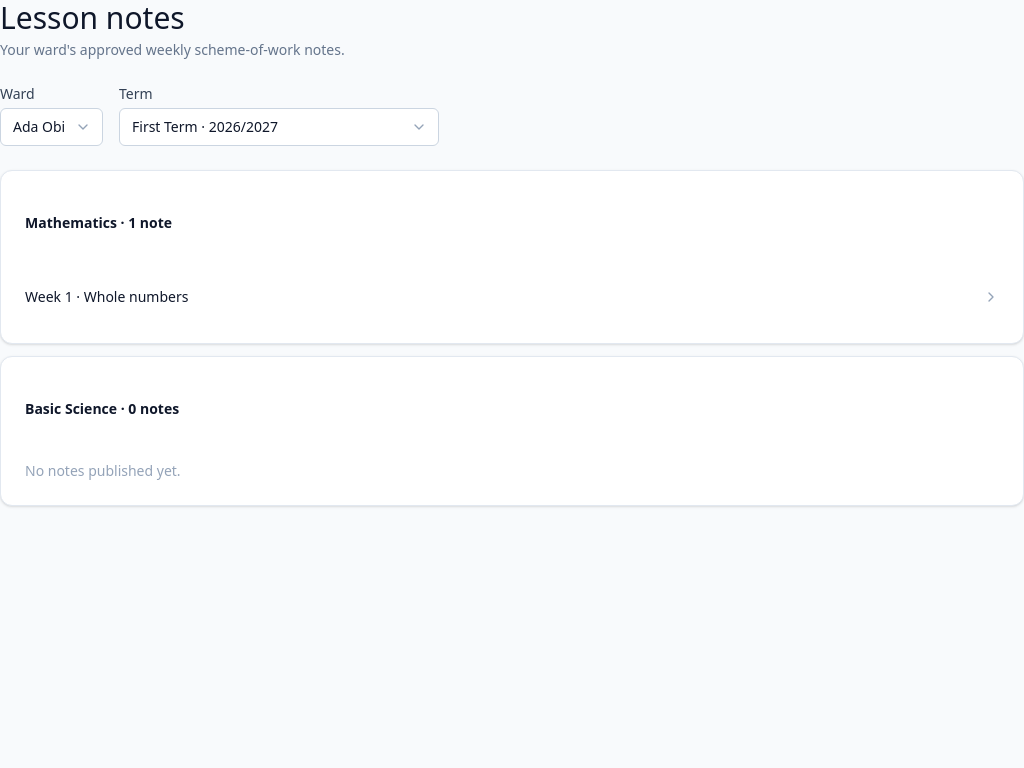
Scenario: WardLessonNotesPage › renders a document-mode note's body through RichContent, with images silently dropped (Phase 16G)
Expected: the text "Week 1 · Whole numbers" is shown, [25,287,188,307]
Click the button "Week 1 · Whole numbers" at (45, 296), box [25,275,999,319]
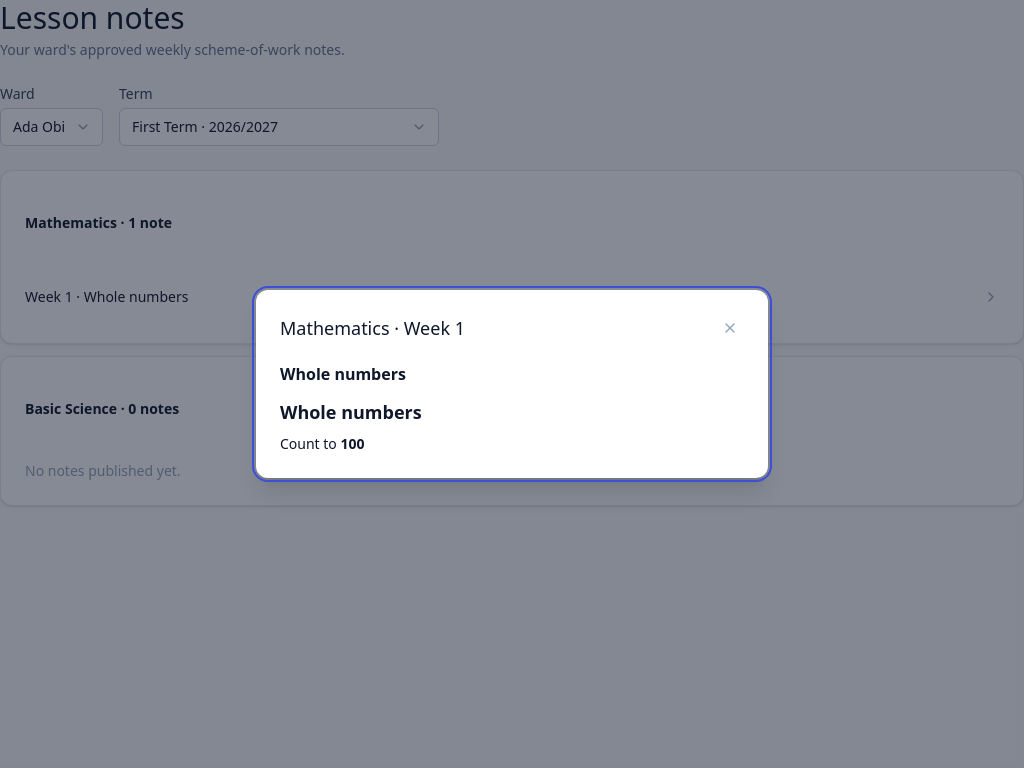
Expected: the heading "Whole numbers" is shown, [280,400,422,424]
